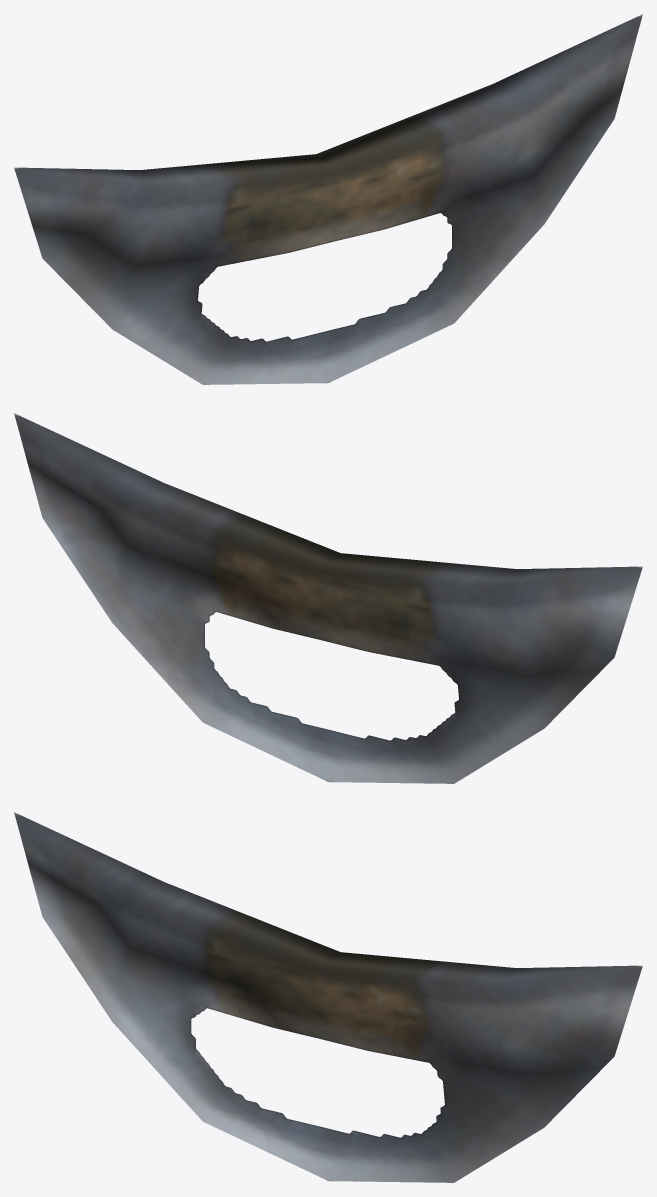
3 renders of one model, top to bottom at view 1: azimuth 30°, elevation 25°; view 2: azimuth 150°, elevation 25°; view 3: azimuth 330°, elevation 25°, orthographic.
Visible parts, largest first — view 1: it91; view 2: it91; view 3: it91.
Part boxes in pixels (<box>): it91: <box>14,14,642,384</box>; it91: <box>14,413,642,783</box>; it91: <box>14,812,642,1182</box>.
Bounding box in the file's own units: 1.64 × 0.7273 × 0.1105.
Materials: 1 (1 with a texture image).
